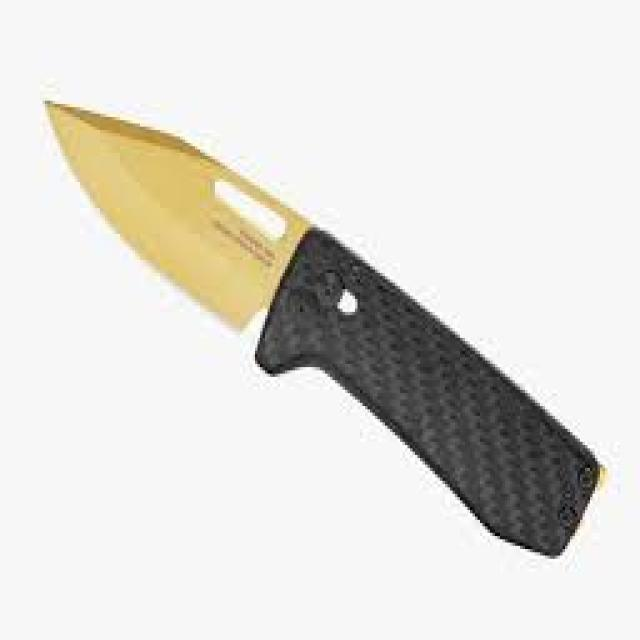knife: (38, 90, 610, 579)
